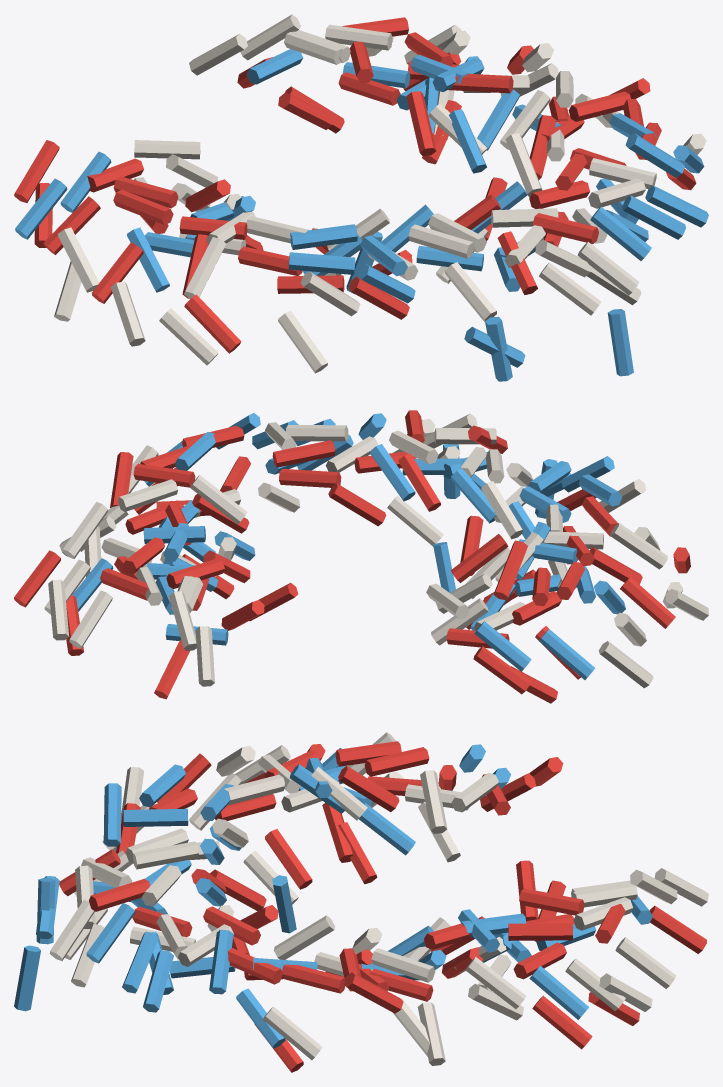
Rendered from lowpolydonut_sprinkles.glb.
3 renders of one model, top to bottom at view 1: azimuth 30°, elevation 25°; view 2: azimuth 150°, elevation 25°; view 3: azimuth 270°, elevation 25°, orthographic. The views are drawn at different scales.
Visible parts, largest first — view 1: Cylinder.066, Cylinder.062, Cylinder.169, Cylinder.080, Cylinder.087, Cylinder.151, Cylinder.061, Cylinder.070, Cylinder.079, Cylinder.086, Cylinder.046, Cylinder.043 (+70 smaller); view 2: Cylinder.092, Cylinder.064, Cylinder.044, Cylinder.101, Cylinder.135, Cylinder.057, Cylinder.051, Cylinder.043, Cylinder.168, Cylinder.004, Cylinder.175, Cylinder.017 (+75 smaller); view 3: Cylinder.012, Cylinder.077, Cylinder.016, Cylinder.098, Cylinder.006, Cylinder.011, Cylinder.071, Cylinder.079, Cylinder.111, Cylinder.004, Cylinder.020, Cylinder.048 (+78 smaller).
Part boxes in pixels (left/top/right/bottom): Cylinder.066: left=288, top=252, right=355, bottom=274; Cylinder.062: left=290, top=224, right=357, bottom=249; Cylinder.169: left=539, top=262, right=601, bottom=315; Cylinder.080: left=577, top=242, right=639, bottom=295; Cylinder.087: left=590, top=206, right=651, bottom=260; Cylinder.151: left=159, top=308, right=218, bottom=365; Cylinder.061: left=184, top=294, right=241, bottom=353; Cylinder.070: left=408, top=224, right=473, bottom=258; Cylinder.079: left=607, top=309, right=633, bottom=376; Cylinder.086: left=622, top=195, right=685, bottom=239; Cylinder.046: left=134, top=140, right=200, bottom=159; Cylinder.043: left=15, top=178, right=67, bottom=239; Cylinder.092: left=272, top=440, right=335, bottom=467; Cylinder.064: left=450, top=534, right=508, bottom=582; Cylinder.044: left=473, top=646, right=530, bottom=694; Cylinder.101: left=190, top=475, right=247, bottom=524; Cylinder.135: left=474, top=621, right=531, bottom=671; Cylinder.057: left=610, top=523, right=667, bottom=569; Cylinder.051: left=620, top=577, right=675, bottom=628; Cylinder.043: left=539, top=629, right=595, bottom=679; Cylinder.168: left=387, top=495, right=443, bottom=546; Cylinder.004: left=118, top=479, right=178, bottom=511; Cylinder.175: left=279, top=469, right=341, bottom=487; Cylinder.017: left=48, top=579, right=69, bottom=640; Cylinder.012: left=508, top=923, right=572, bottom=940; Cylinder.077: left=132, top=841, right=198, bottom=869; Cylinder.016: left=615, top=937, right=676, bottom=988; Cylinder.098: left=262, top=1006, right=322, bottom=1060; Cylinder.006: left=465, top=957, right=525, bottom=1008; Cylinder.011: left=532, top=995, right=592, bottom=1049; Cylinder.071: left=123, top=808, right=188, bottom=826; Cylinder.079: left=14, top=945, right=40, bottom=1011; Cylinder.111: left=529, top=966, right=588, bottom=1019; Cylinder.004: left=371, top=948, right=435, bottom=982; Cylinder.020: left=519, top=888, right=584, bottom=915; Cylinder.048: left=364, top=747, right=429, bottom=776.
Size of the model in its own units: 0.064 by 0.0137 by 0.0644.
